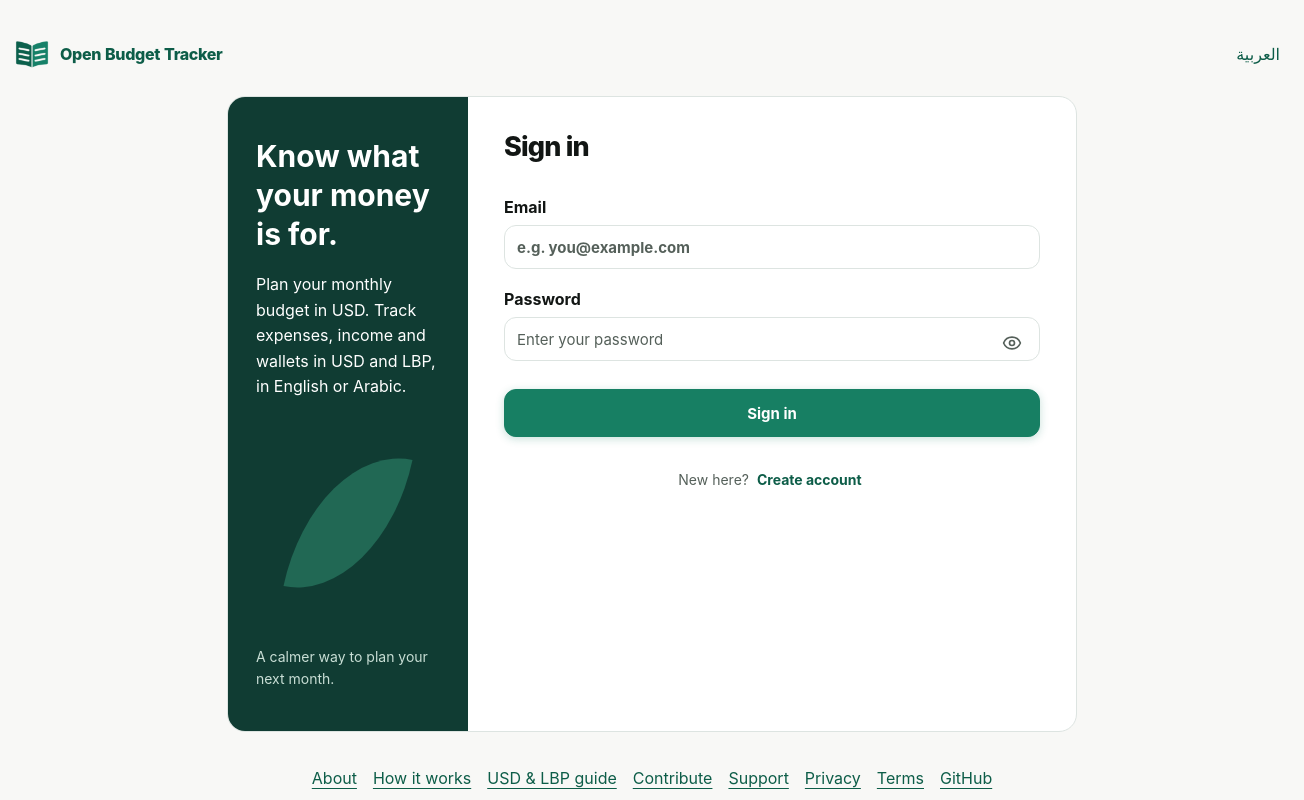
Scenario: reveals the password accessibly without changing it or submitting
The width and height of the screenshot is (1304, 800).
Type "mypassword" into the password field labelled "Password" at (772, 339), box x1=504 y1=317 x2=1040 y2=361
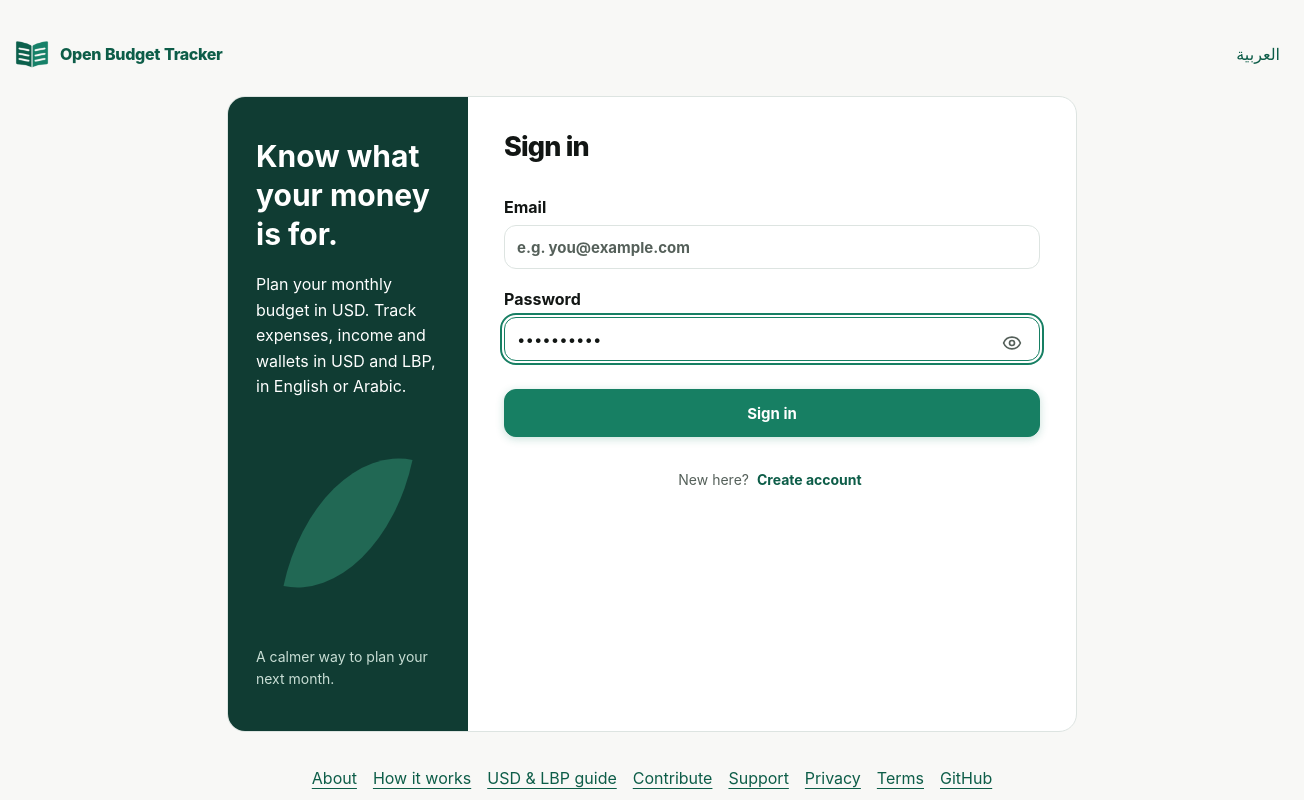
Click the button named "Show password" at (1012, 343), box x1=986 y1=319 x2=1038 y2=367
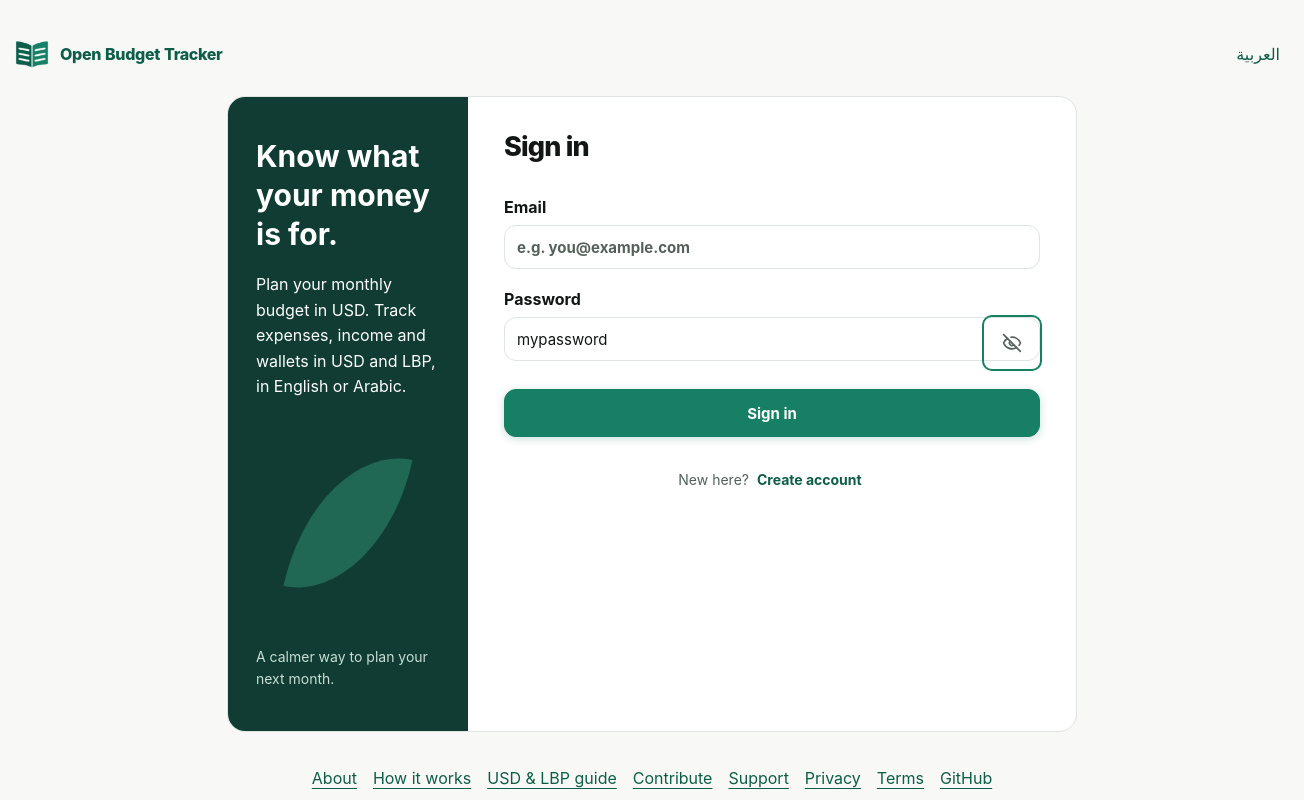
Check: the field labelled "Password" shows its text, box x1=504 y1=317 x2=1040 y2=361
